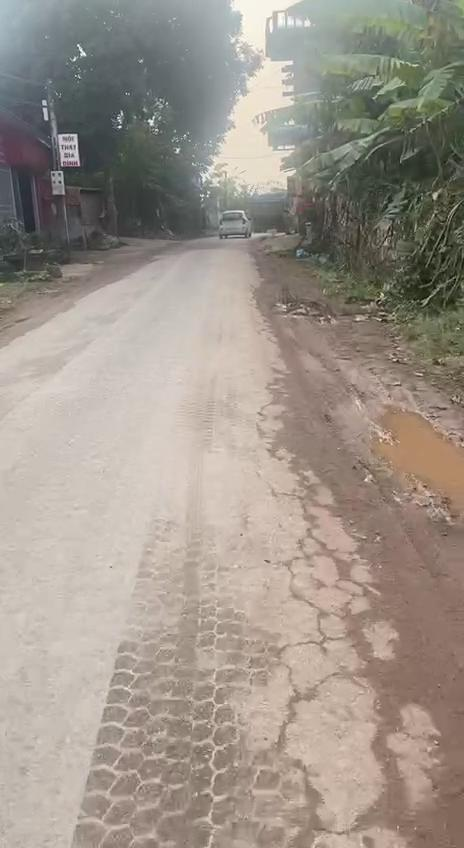pothole: (352, 396, 464, 520)
